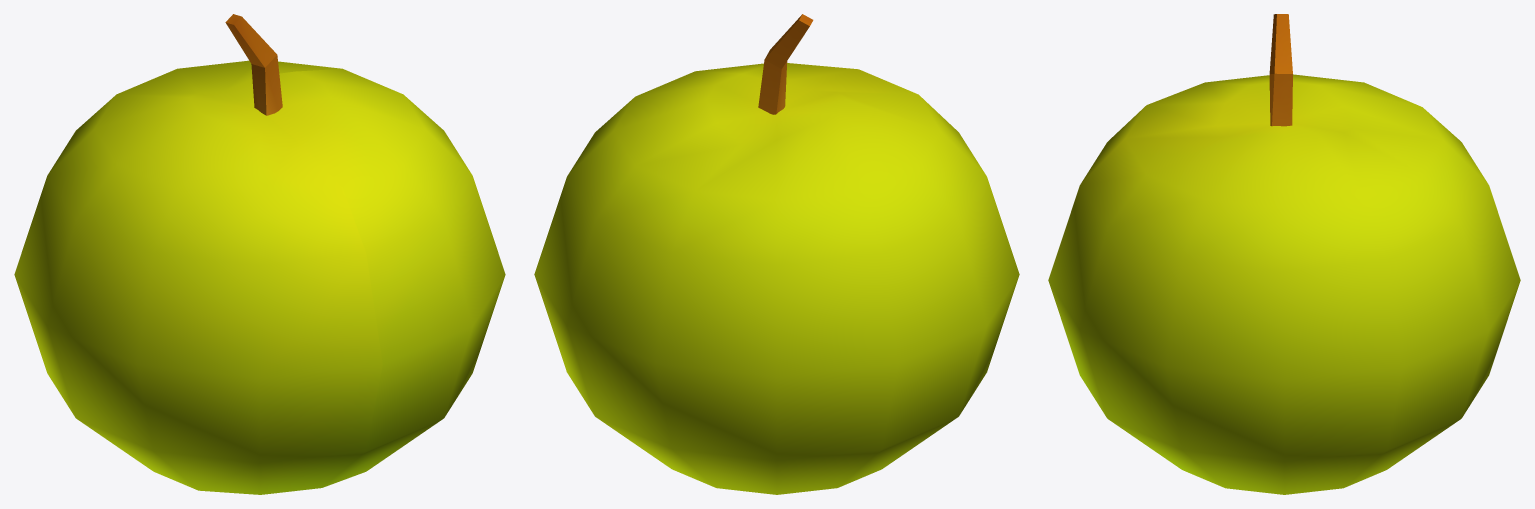
The model's file is Apple.fbx.
3 renders of one model, left to right at view 1: azimuth 30°, elevation 25°; view 2: azimuth 150°, elevation 25°; view 3: azimuth 270°, elevation 25°, orthographic. The views are drawn at different scales.
Parts seen in each view (by area): view 1: Apple; view 2: Apple; view 3: Apple.
Part boxes in pixels (x1,y1,x2,y2): Apple: [14, 14, 505, 494]; Apple: [534, 14, 1019, 494]; Apple: [1048, 14, 1520, 494].
Bounding box in the file's own units: 422 × 422 × 422.
